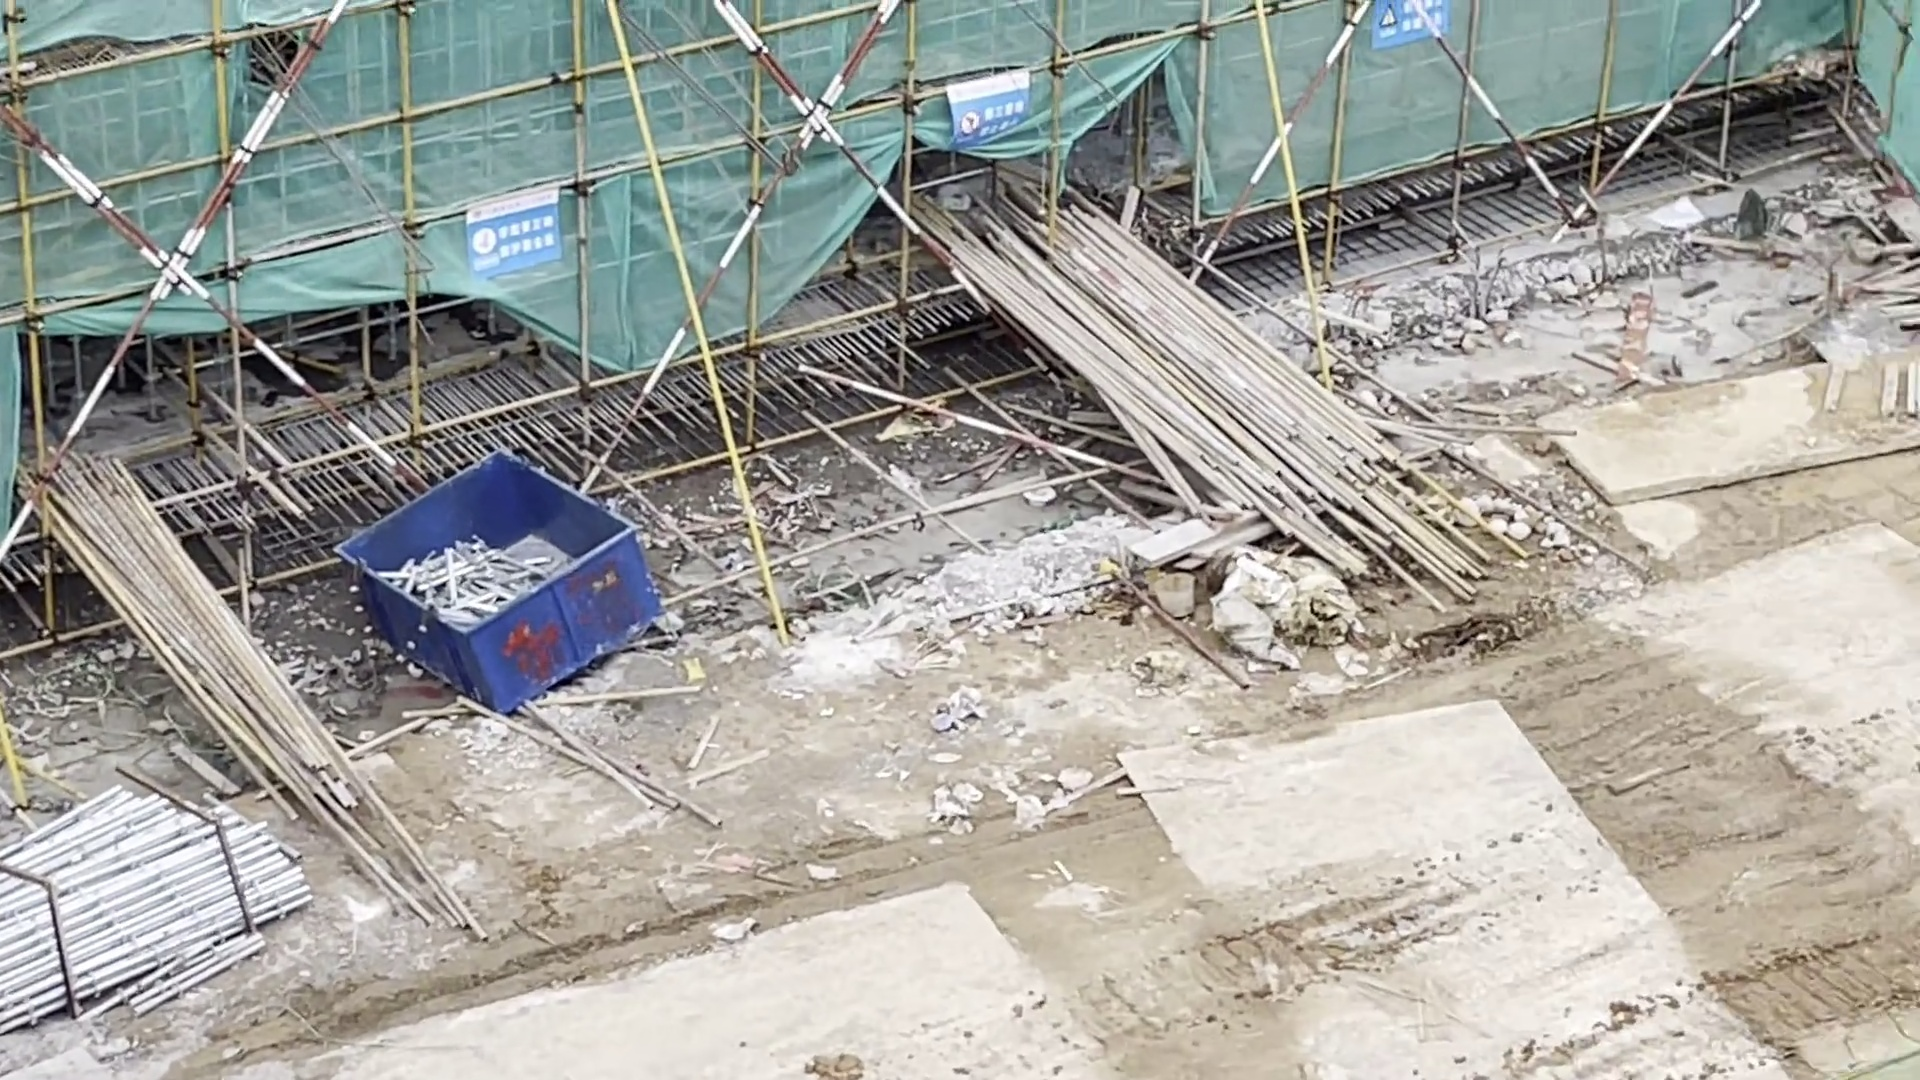hopper: (338, 442, 676, 723)
scaffold: (1, 778, 314, 1017)
